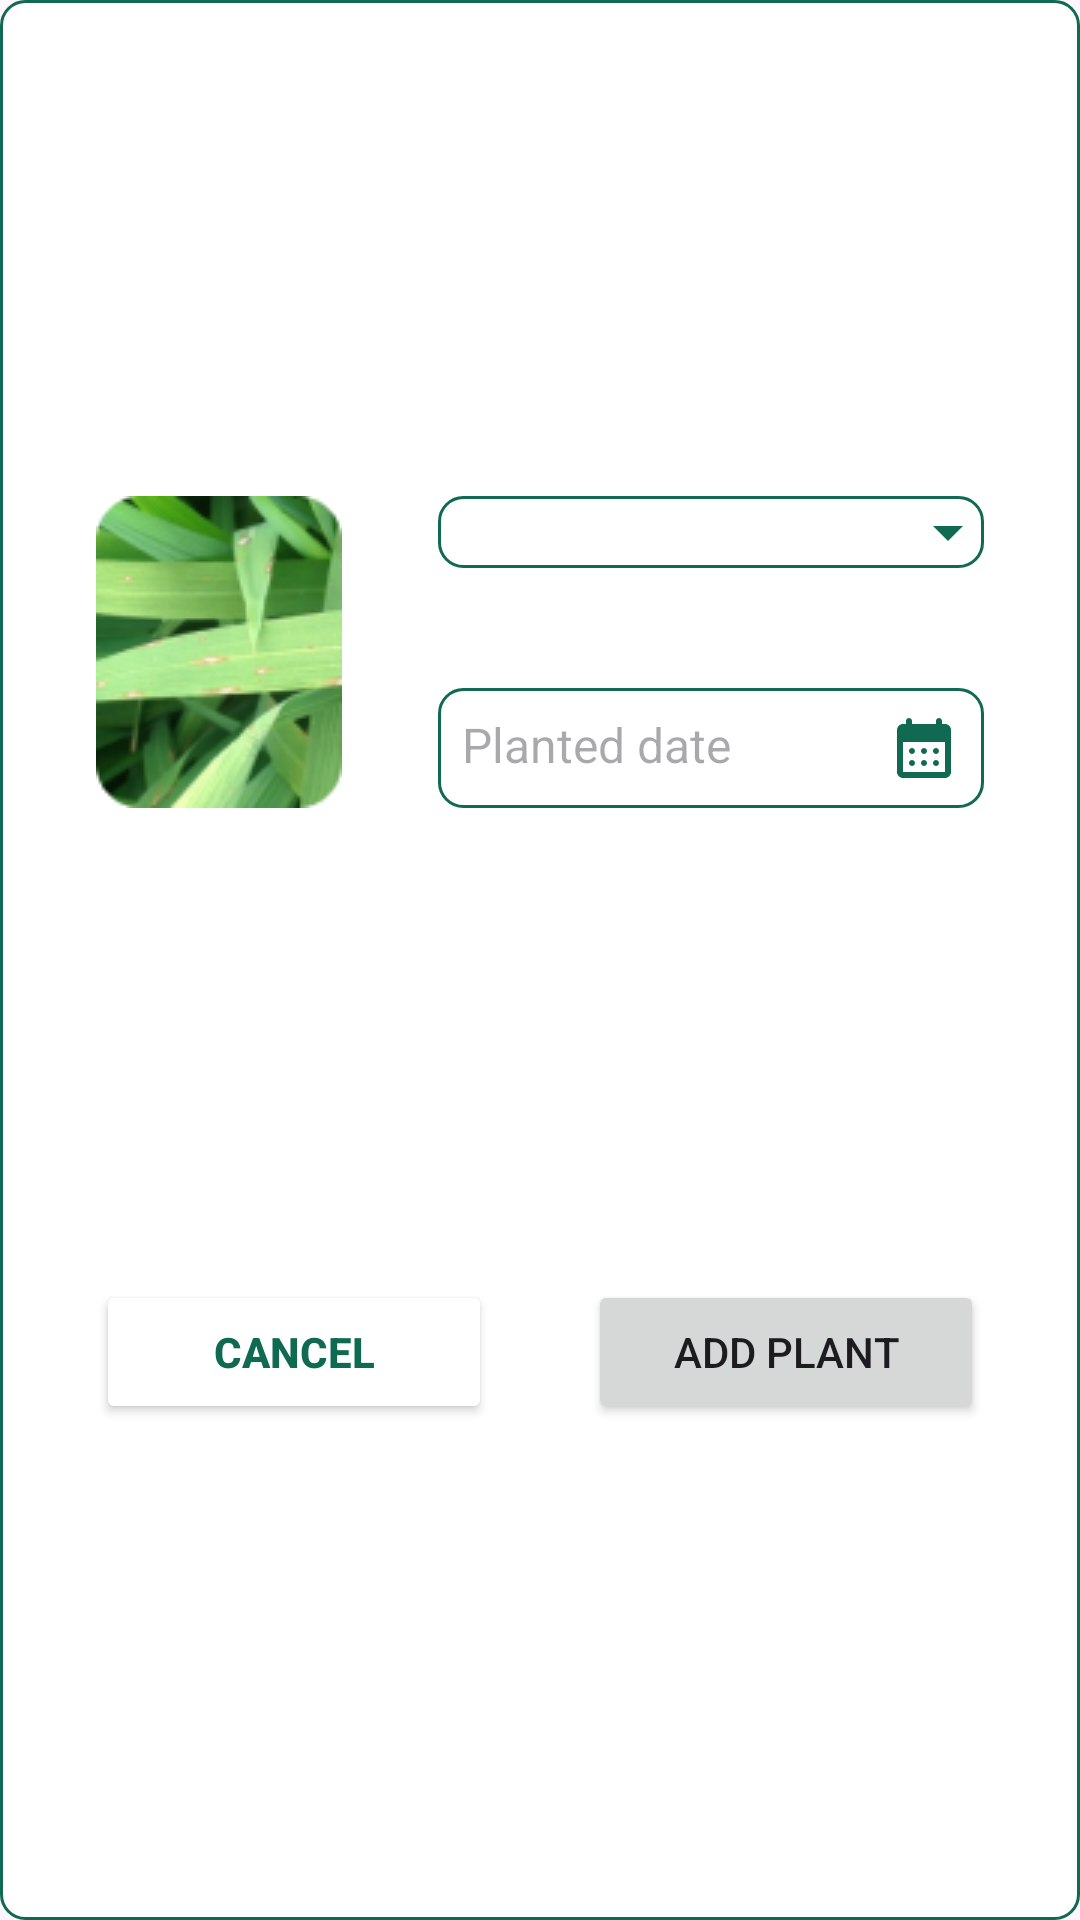

Named icons in this screenshot (1080 x 1920) and their centers, point (x, y):
list thumbnail: point (219, 652)
